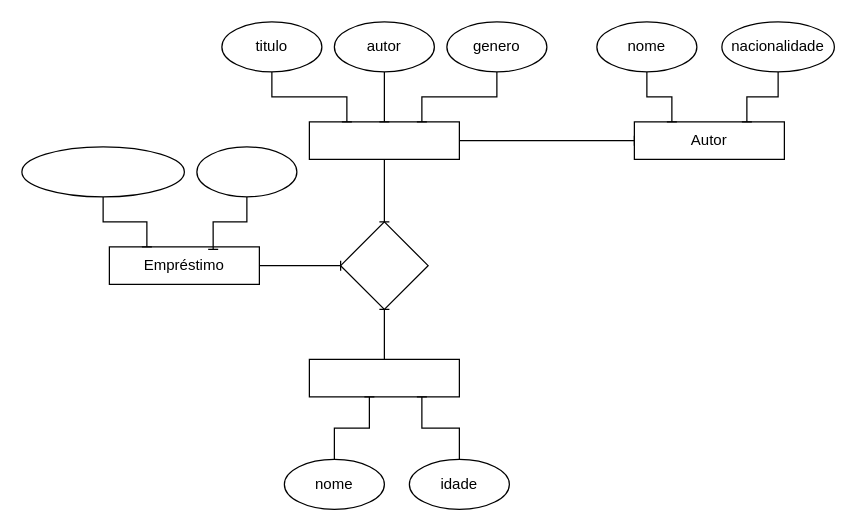
The diagram is 856 pixels wide and 531 high, and some of its shapes have lost their labels. Here are the shapes that lost their labels. From the top down, the centre of each, then its label:
At (383,140): "Livro".
At (102,171): "dataPrevistaDevolucao".
At (246,171): "dataRetirada".
At (383,377): "Usuário".
